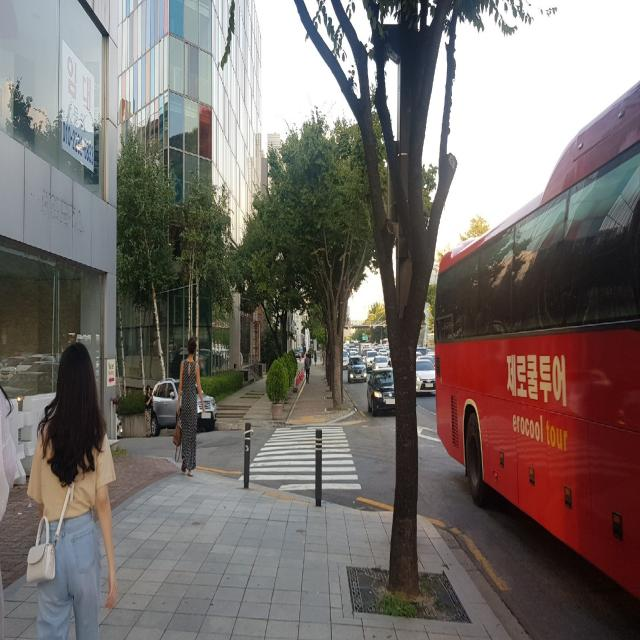횡단보도: (238, 426, 362, 492)
